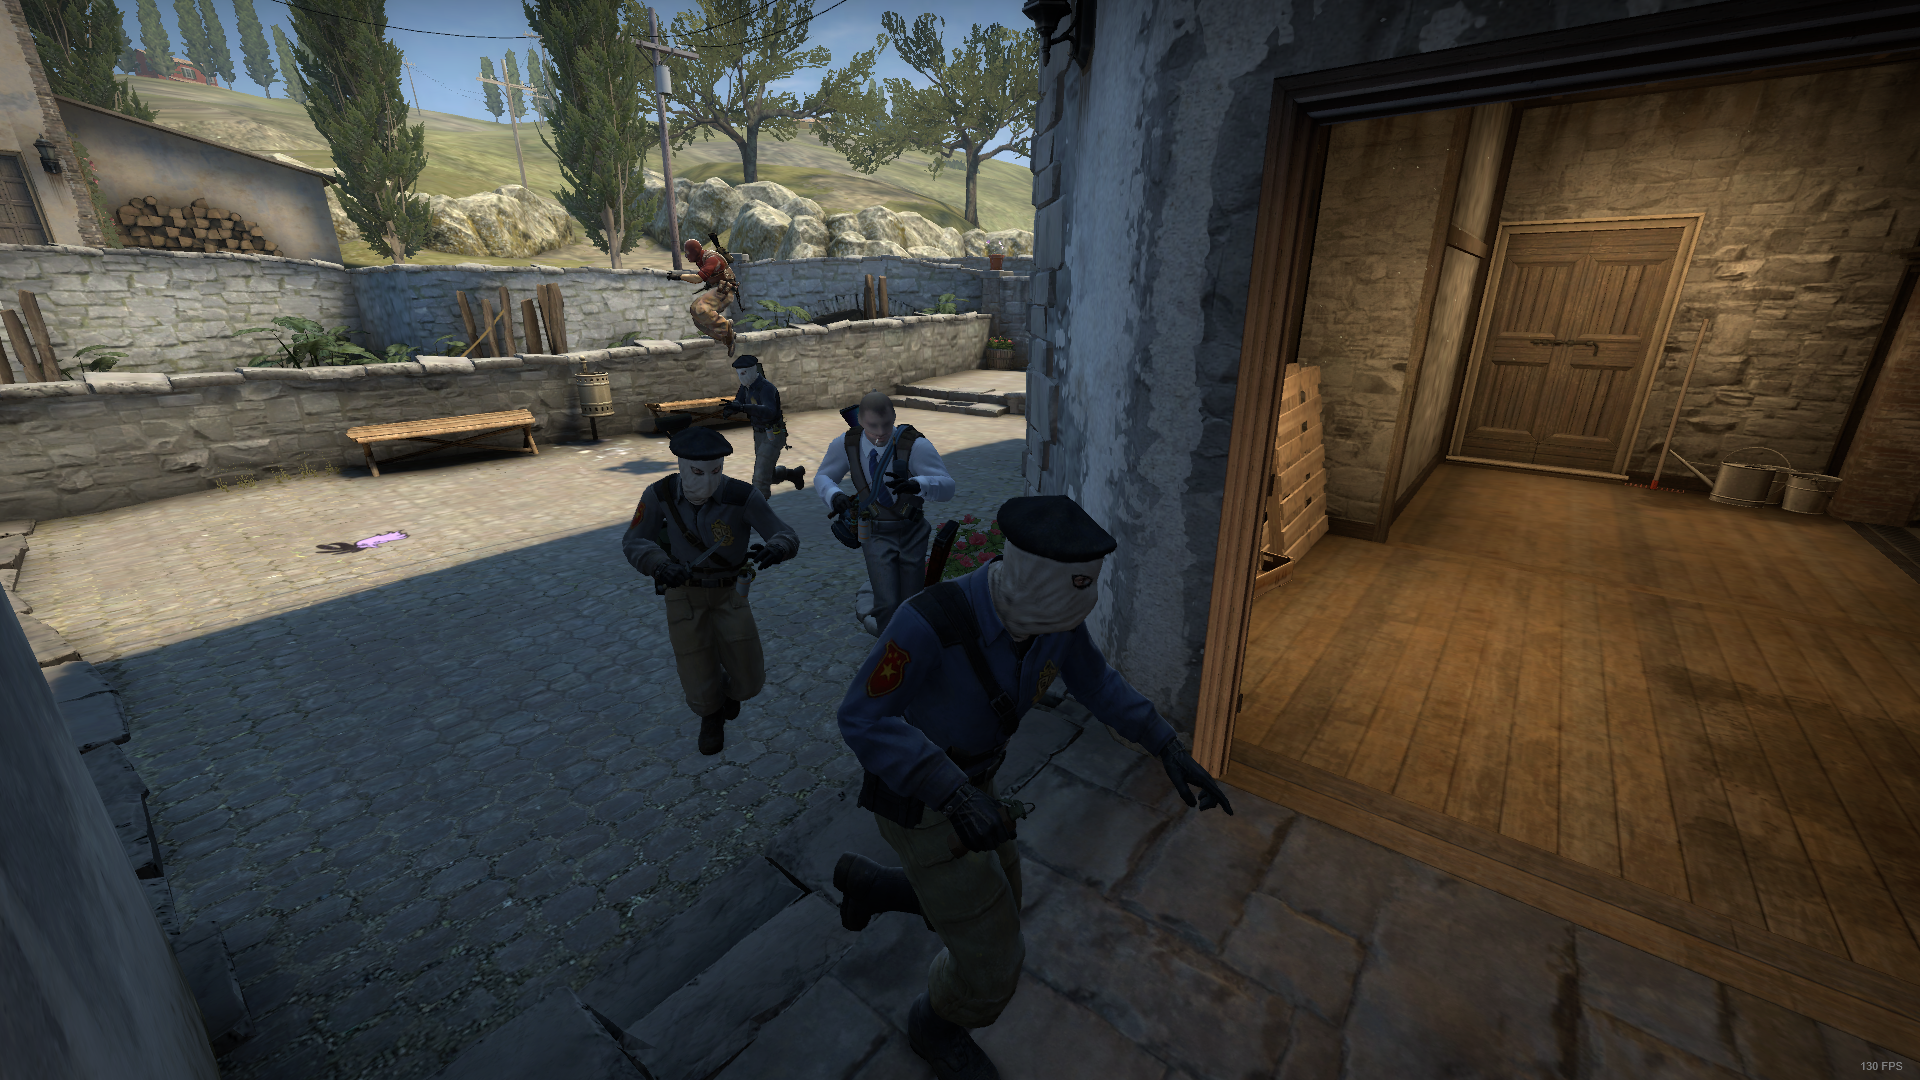t: (828, 497, 1232, 1080), (615, 429, 802, 764), (717, 353, 808, 510)
